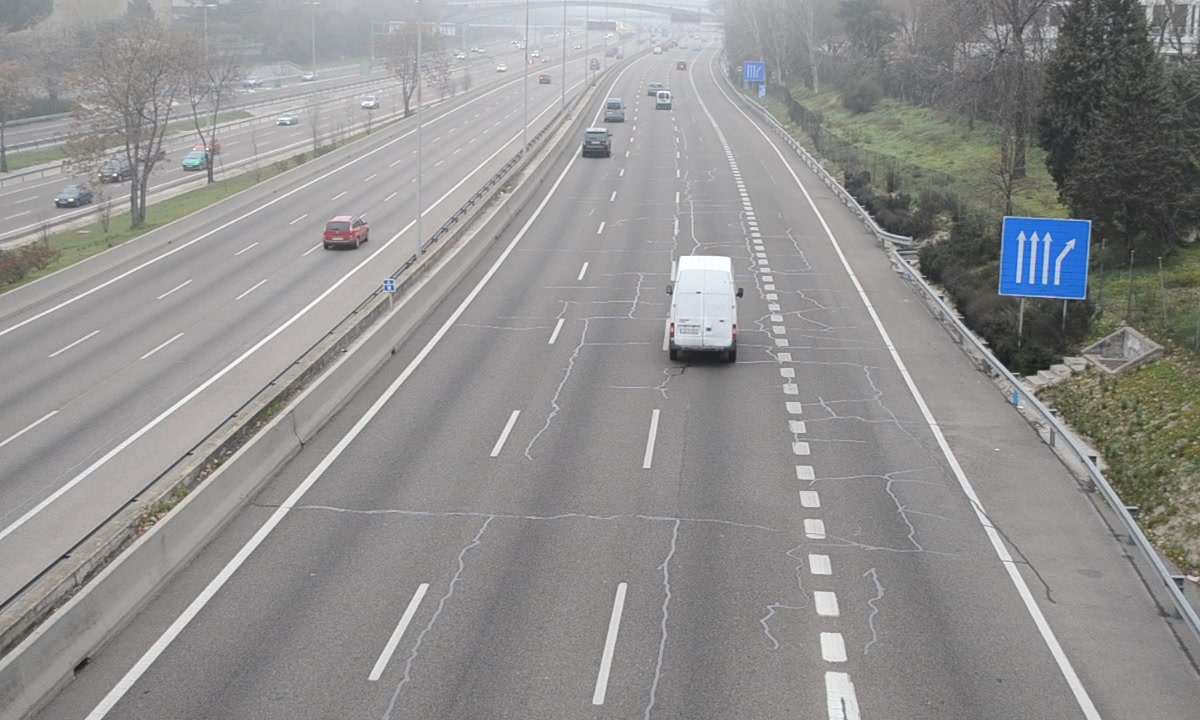car: (580, 129, 611, 156)
van: (670, 257, 738, 358), (603, 96, 626, 126)
